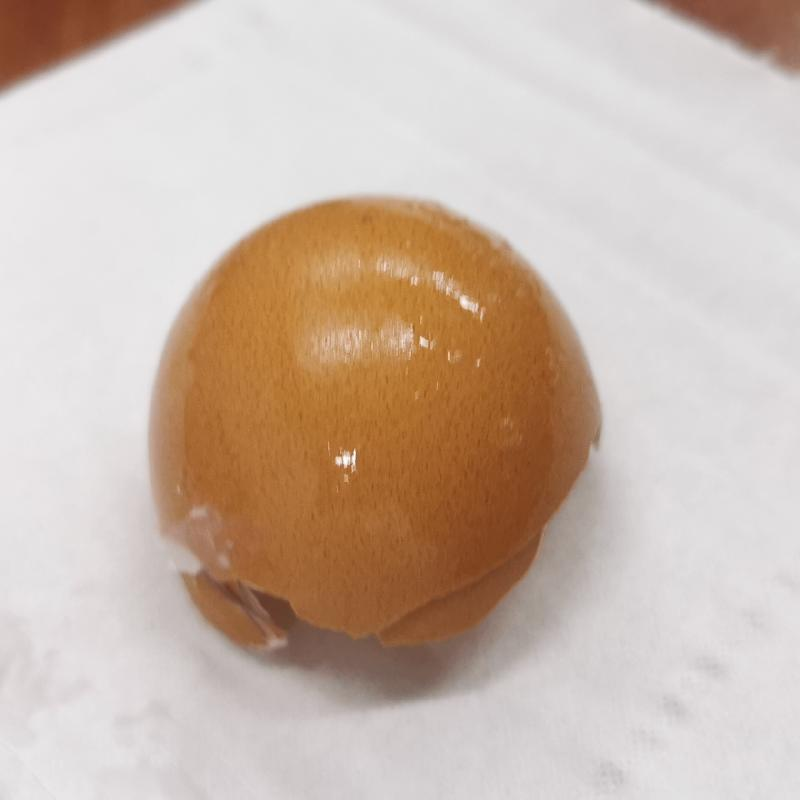eggshell: (144, 188, 608, 674)
